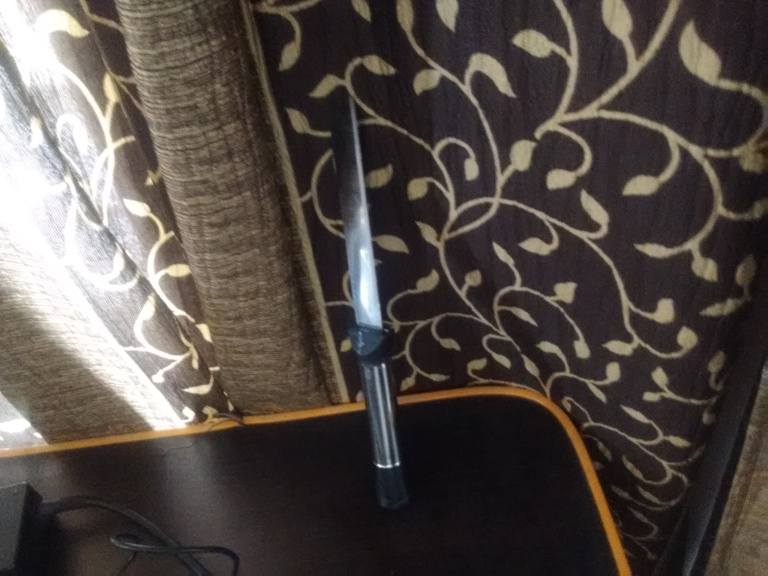knife: (319, 87, 414, 513)
